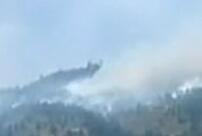yanwu: (64, 31, 202, 115)
